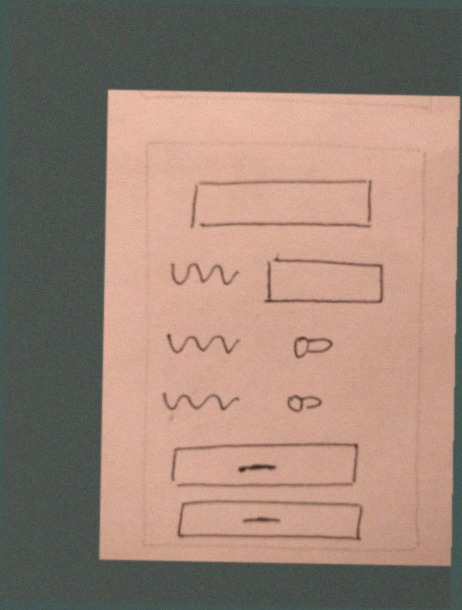button: (162, 435, 371, 494), (170, 496, 377, 546)
switch: (280, 328, 341, 362), (276, 382, 328, 418)
text: (157, 251, 241, 294), (152, 380, 244, 419), (158, 322, 245, 362)
text_input: (186, 170, 379, 231), (251, 245, 392, 313)
